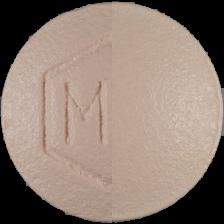50419-407: (0, 0, 224, 224)
